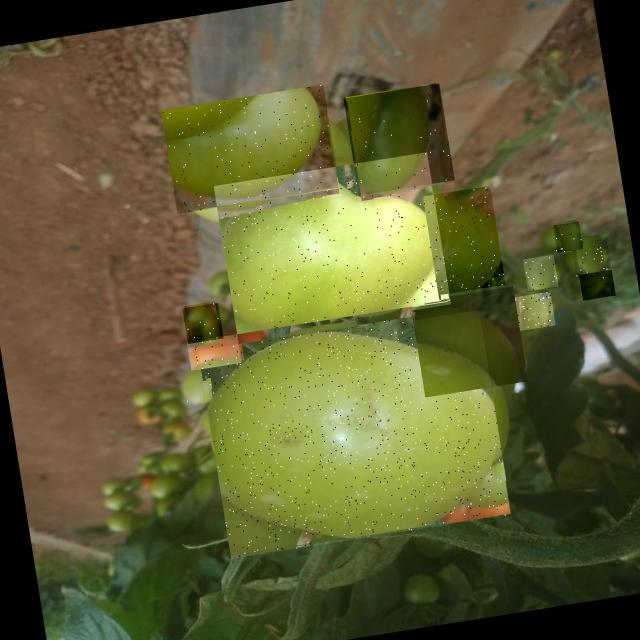Ripe Tomato: (187, 334, 242, 371)
Unripe Tomato: (198, 306, 512, 559), (214, 152, 451, 334), (162, 85, 340, 214), (410, 284, 528, 397), (344, 84, 454, 195), (423, 186, 506, 294), (570, 238, 612, 279), (182, 303, 223, 344), (515, 292, 556, 331), (523, 255, 559, 291), (579, 270, 616, 300), (550, 222, 582, 254), (182, 380, 212, 406)
